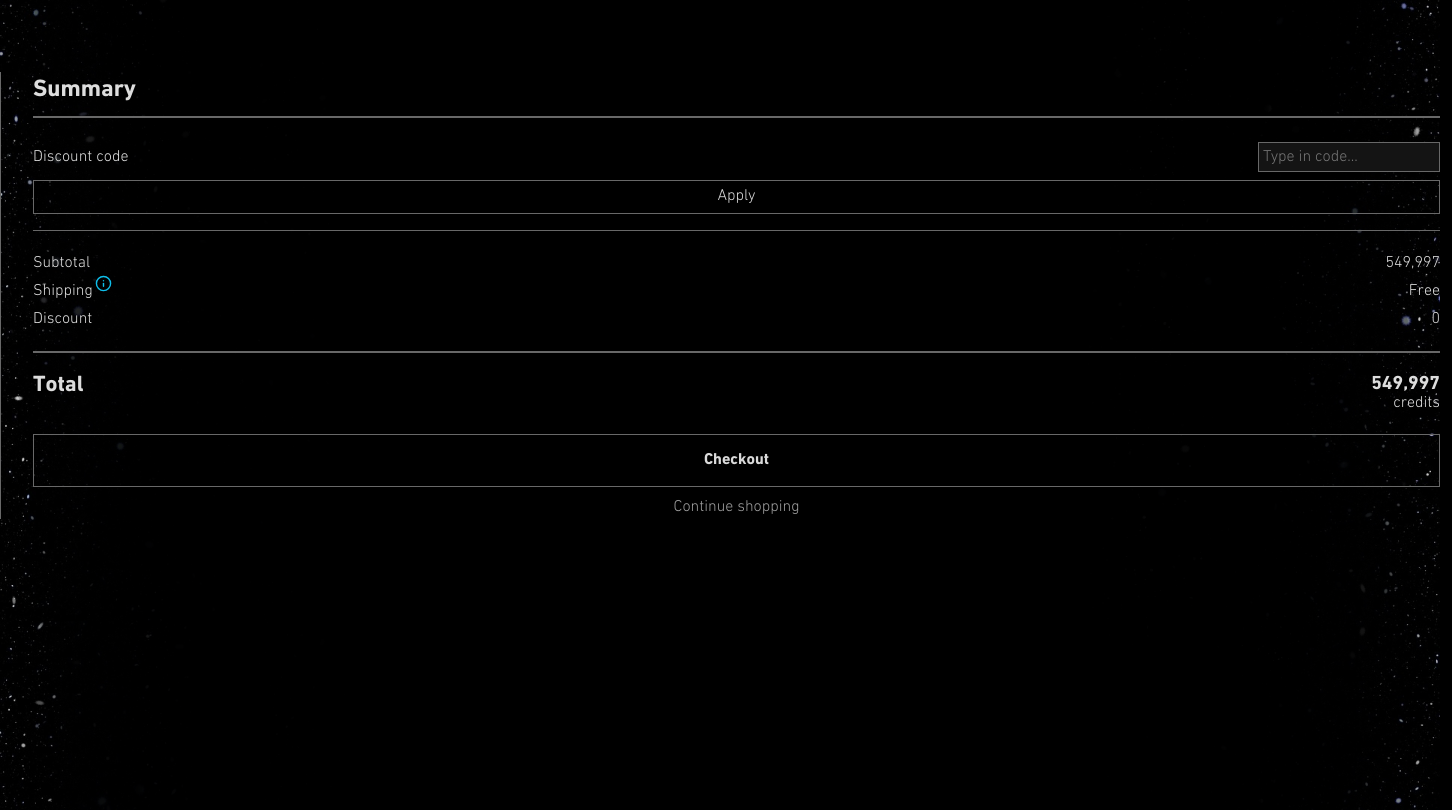
Test case: Cart Summary component › Logic tests › tooltip toggles on/off after button click
Click the button named "free shipping tooltip" at (104, 284), box [95,275,112,294]
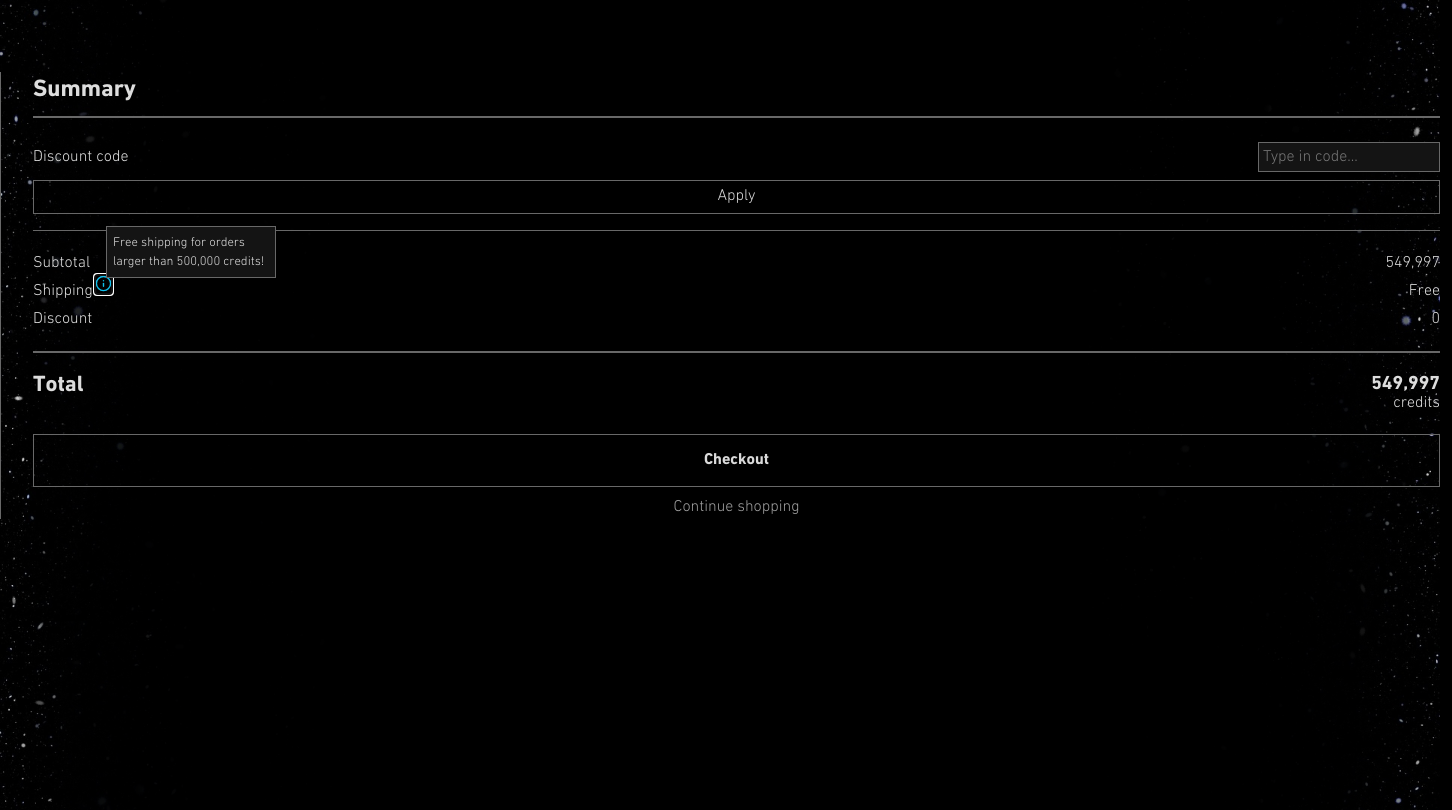
Check: the text "Free shipping for orders larger than 500,000 credits!" is shown, box [106,226,276,278]
Click the button named "free shipping tooltip" at (104, 284), box [95,275,112,294]
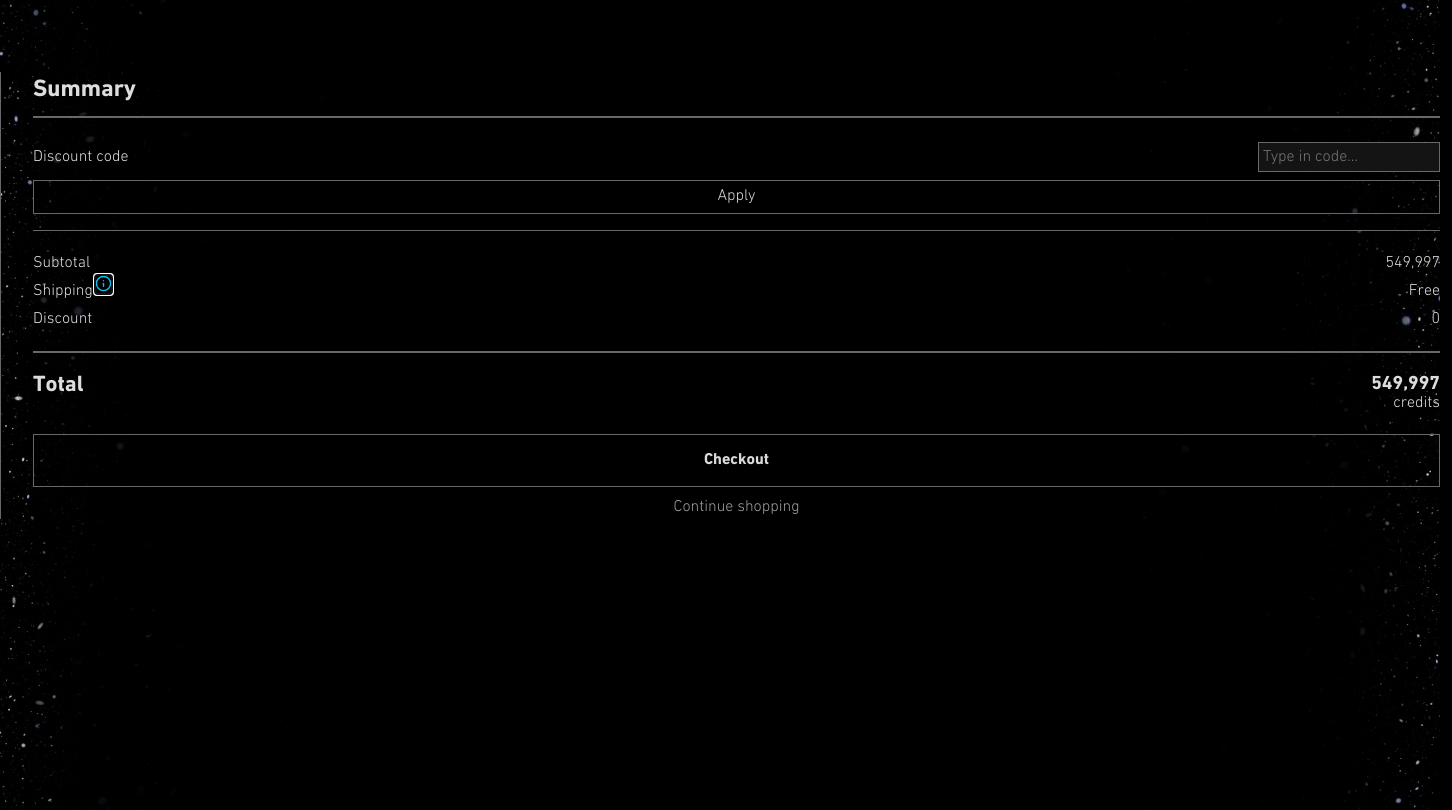
Check: the text "Free shipping for orders larger than 500,000 credits!" is gone
